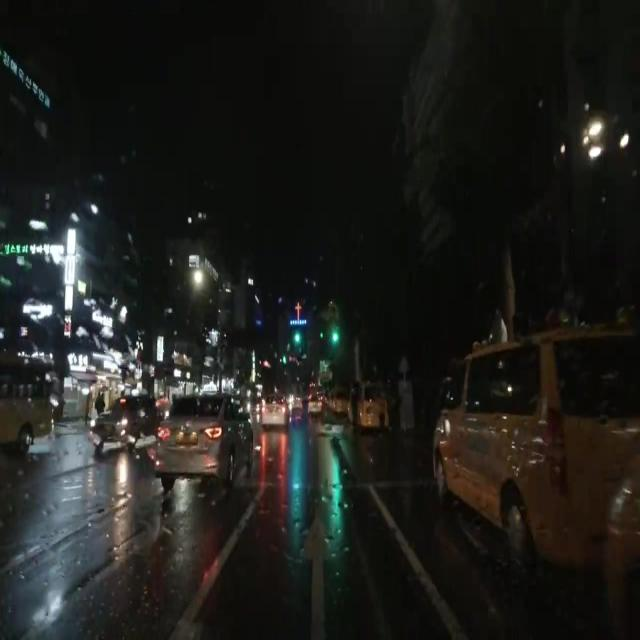Car: (431, 335, 606, 578), (155, 388, 252, 487), (91, 394, 157, 440), (348, 378, 387, 437), (255, 396, 284, 429)
